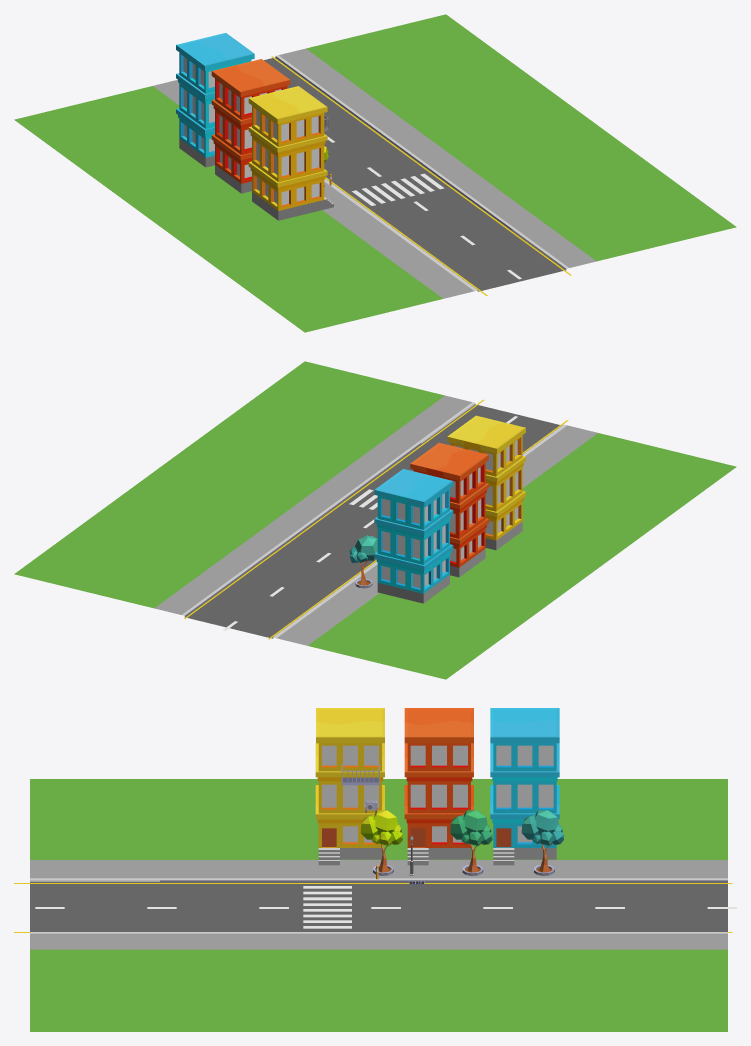
File: Outside layout.fbx
3 renders of one model, top to bottom at view 1: azimuth 30°, elevation 25°; view 2: azimuth 150°, elevation 25°; view 3: azimuth 270°, elevation 25°, orthographic. The views are drawn at different scales.
Visible parts, largest first — view 1: Street, House01, House02, House03, SideLines, Crossing; view 2: Street, House03, House01, House02, SideLines, Tree.001; view 3: Street, House02, House01, House03, Tree, Tree.001, Tree.002, Crossing, SideLines.
Part boxes in pixels (<box>): Street: <box>14,14,736,332</box>; House01: <box>248,86,333,220</box>; House02: <box>211,59,290,193</box>; House03: <box>176,33,254,167</box>; SideLines: <box>271,56,571,295</box>; Crossing: <box>352,173,444,205</box>; Street: <box>14,361,736,679</box>; House03: <box>374,469,453,603</box>; House01: <box>447,415,525,550</box>; House02: <box>410,443,488,577</box>; SideLines: <box>184,399,568,639</box>; Tree.001: <box>349,535,377,588</box>; Street: <box>30,779,727,1031</box>; House02: <box>404,708,473,865</box>; House01: <box>315,708,384,865</box>; House03: <box>490,708,559,865</box>; Tree: <box>450,810,492,875</box>; Tree.001: <box>521,810,563,875</box>; Tree.002: <box>360,810,402,875</box>; Crossing: <box>303,886,351,928</box>; SideLines: <box>14,883,732,932</box>.
Size of the model in its own units: 176 by 40.99 by 213.
